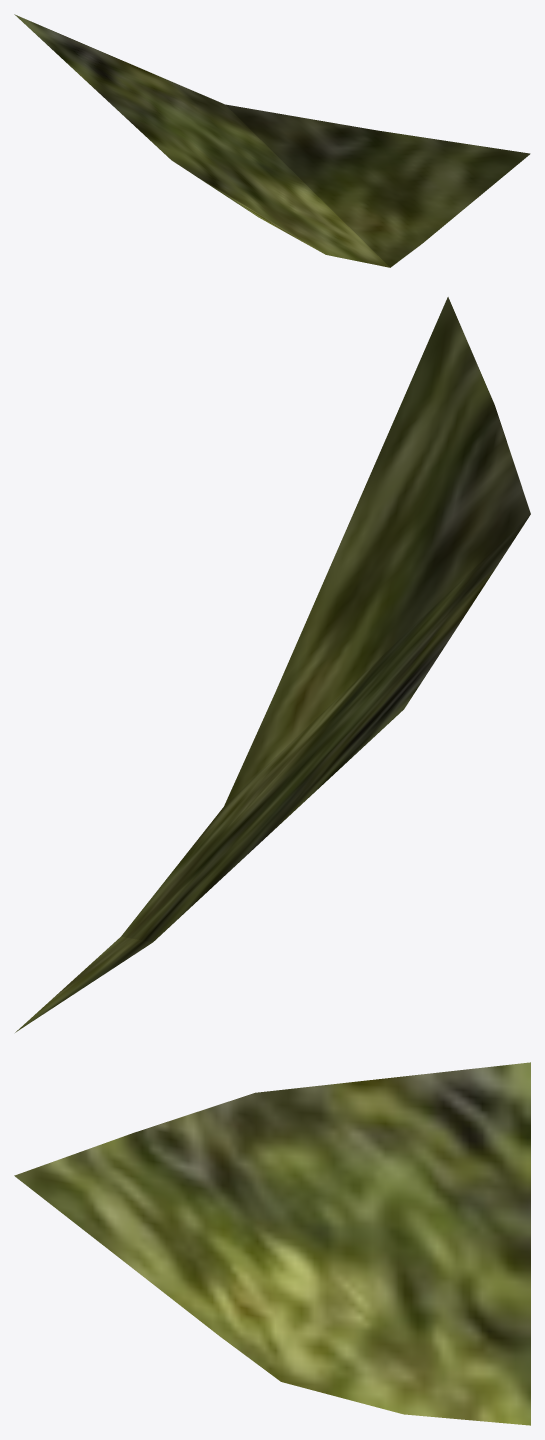
The picture shows the model from 3 angles, top to bottom: view 1: azimuth 30°, elevation 25°; view 2: azimuth 150°, elevation 25°; view 3: azimuth 270°, elevation 25°; orthographic projection. The views are drawn at different scales.
Size of the model in its own units: 0.4603 by 0.4729 by 0.8868.
Materials: 1 (1 with a texture image).
